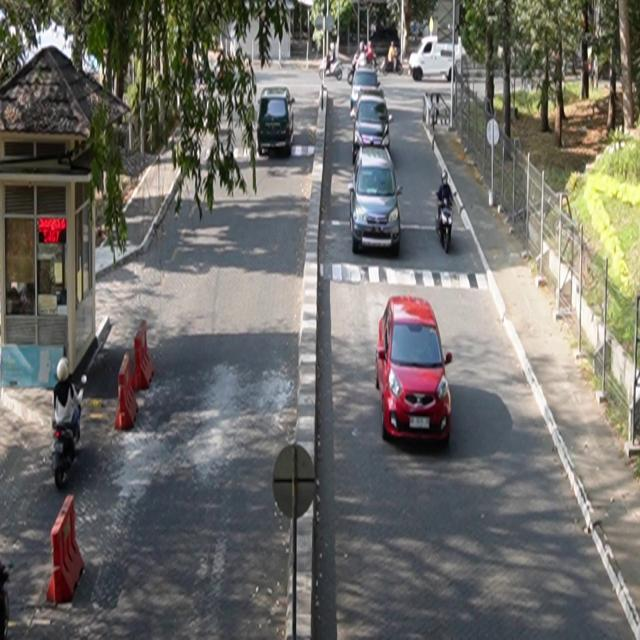car: (376, 295, 453, 445), (349, 146, 404, 256), (351, 93, 394, 164), (258, 87, 296, 158)
